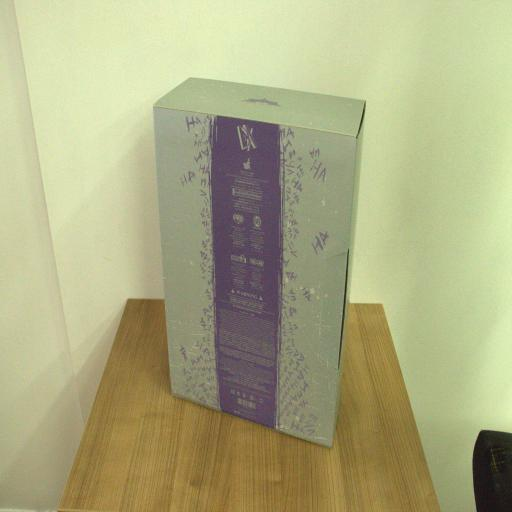Joker: (154, 73, 368, 452)
